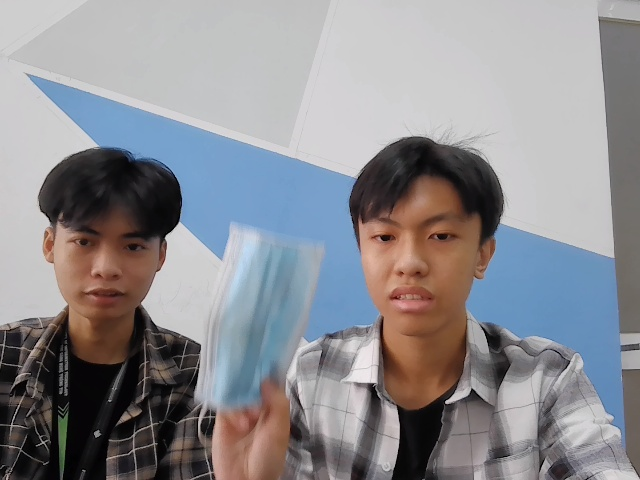human: (37, 144, 186, 322), (356, 146, 503, 324)
mask: (195, 222, 323, 419)
